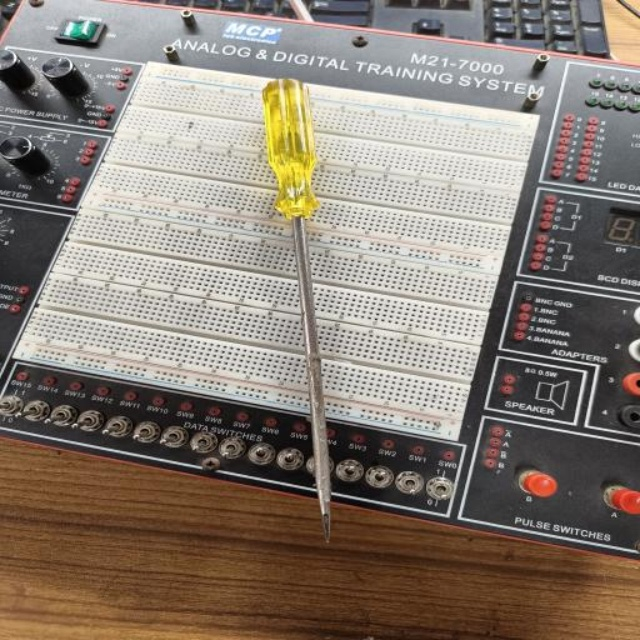screwdriver: (263, 79, 333, 543)
